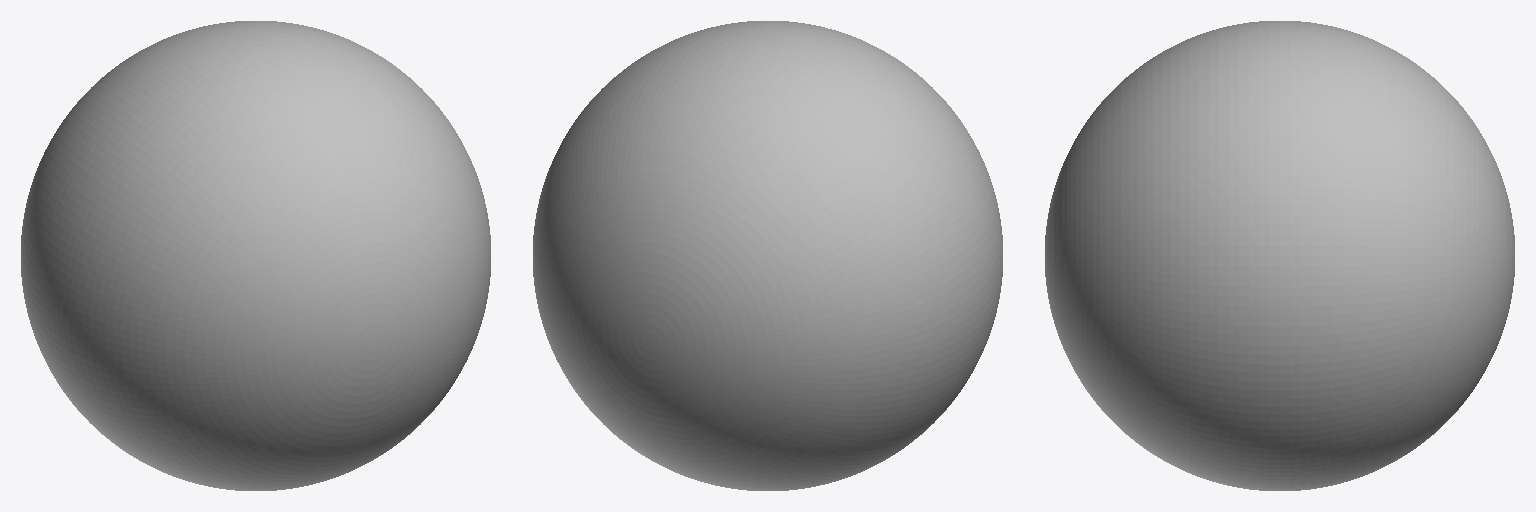
The model's file is ball.obj.
The picture shows the model from 3 angles: view 1: azimuth 30°, elevation 25°; view 2: azimuth 150°, elevation 25°; view 3: azimuth 270°, elevation 25°; orthographic projection.
Parts seen in each view (by area): view 1: ball; view 2: ball; view 3: ball.
Boxes of the visible parts, x1=… form: ball: x1=21, y1=21, x2=490, y2=490; ball: x1=533, y1=21, x2=1002, y2=490; ball: x1=1045, y1=21, x2=1514, y2=490.
Size of the model in its own units: 0.0103 by 0.0103 by 0.0103.